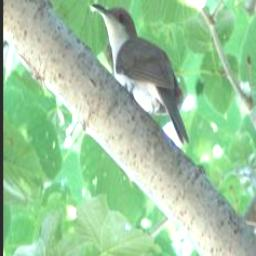Cuckoo: (90, 1, 191, 148)
